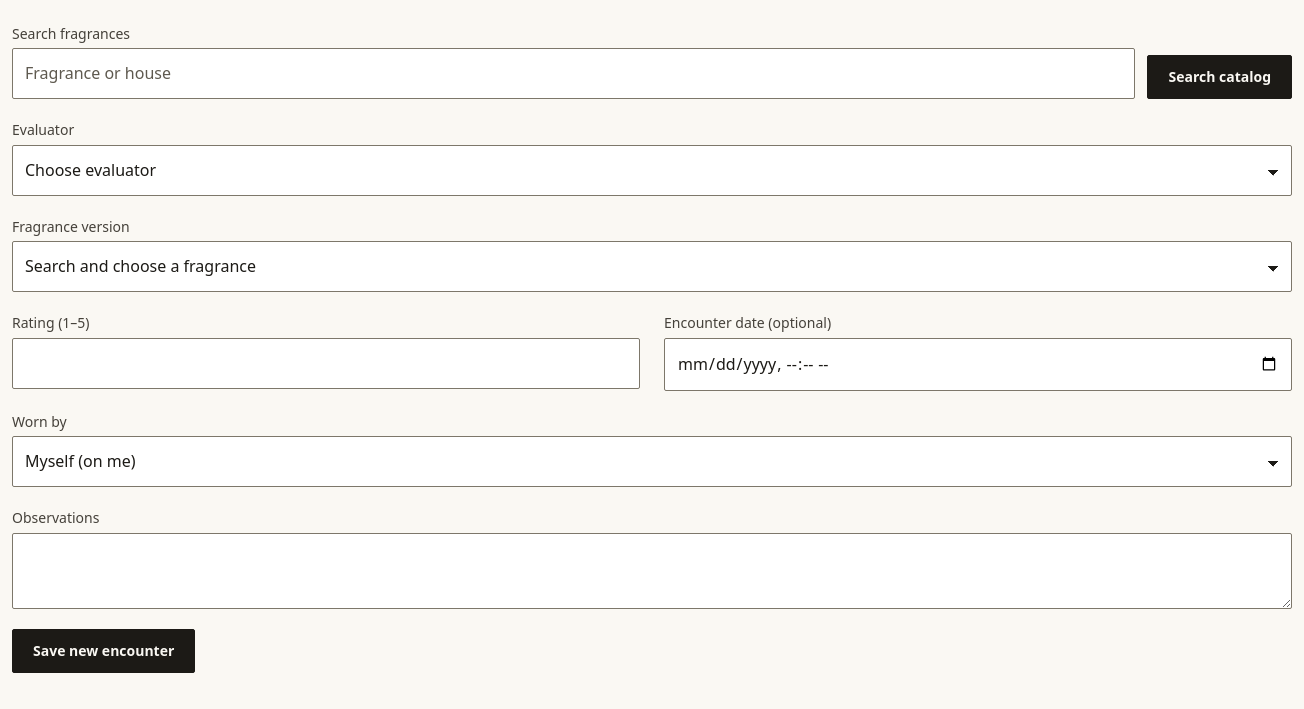
encounter history names › names each fragrance even though nothing has been searched
Select "Evaluator One" in the dropdown labelled "Evaluator". click: (652, 170)
box: [12, 145, 1292, 196]
(page scrolled)
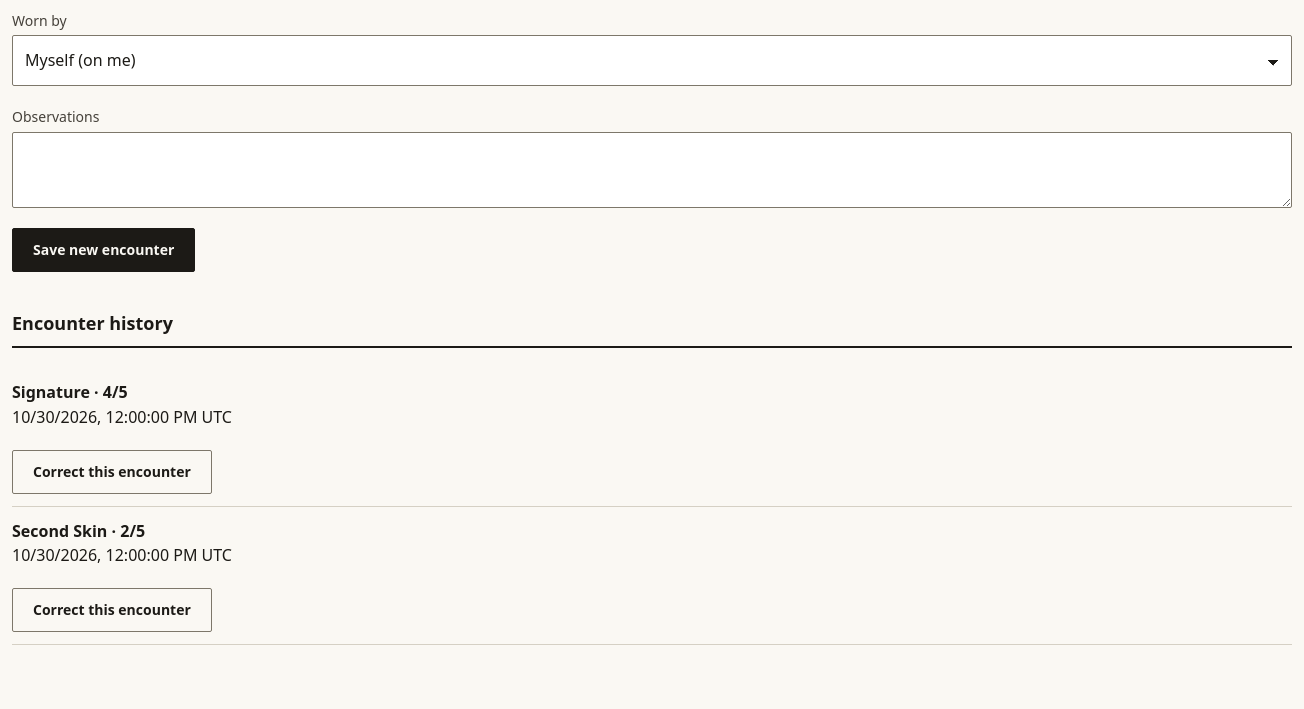
Expected: the text "Signature · 4/5" is shown, [12, 381, 128, 403]
Expected: the text "Second Skin · 2/5" is shown, [12, 520, 145, 542]
